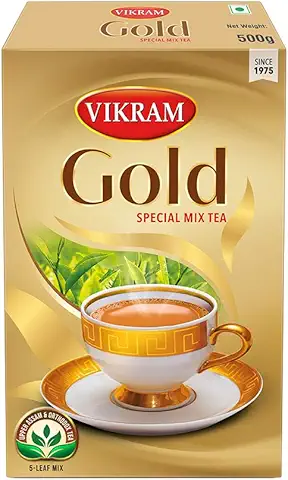Tea: (5, 8, 286, 480)
